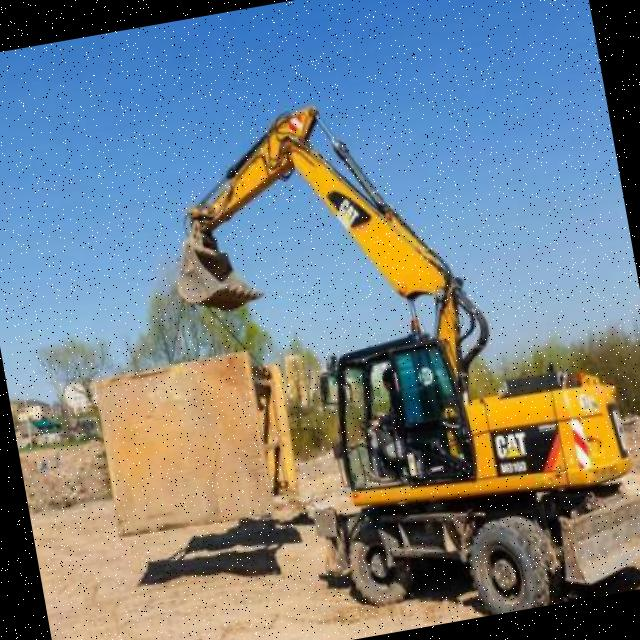Excavator: (134, 50, 640, 640)
